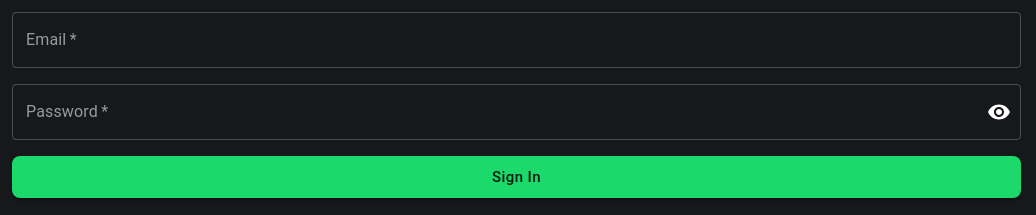
Test: LoginForm › should show loading state during submission
Type "test@example.com" into the field labelled "Email *" at (516, 40), box [12,12,1021,68]
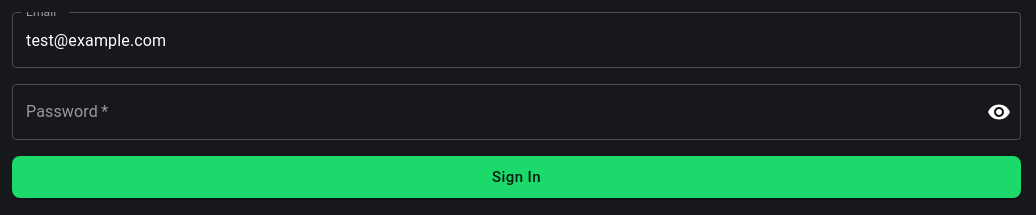
Type "password123" into the password field labelled "Password *" at (492, 112), box [12,84,971,140]
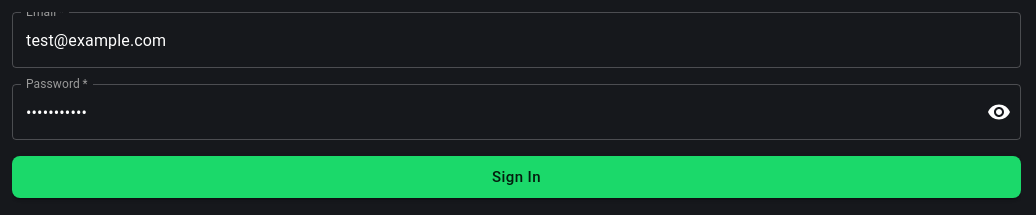
Click the button "Sign In" at (516, 177), box [12,156,1021,198]
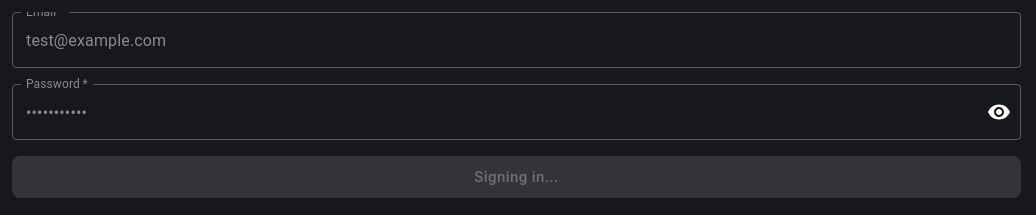
Check: the button named "sign in" is disabled, box [12,156,1021,198]
